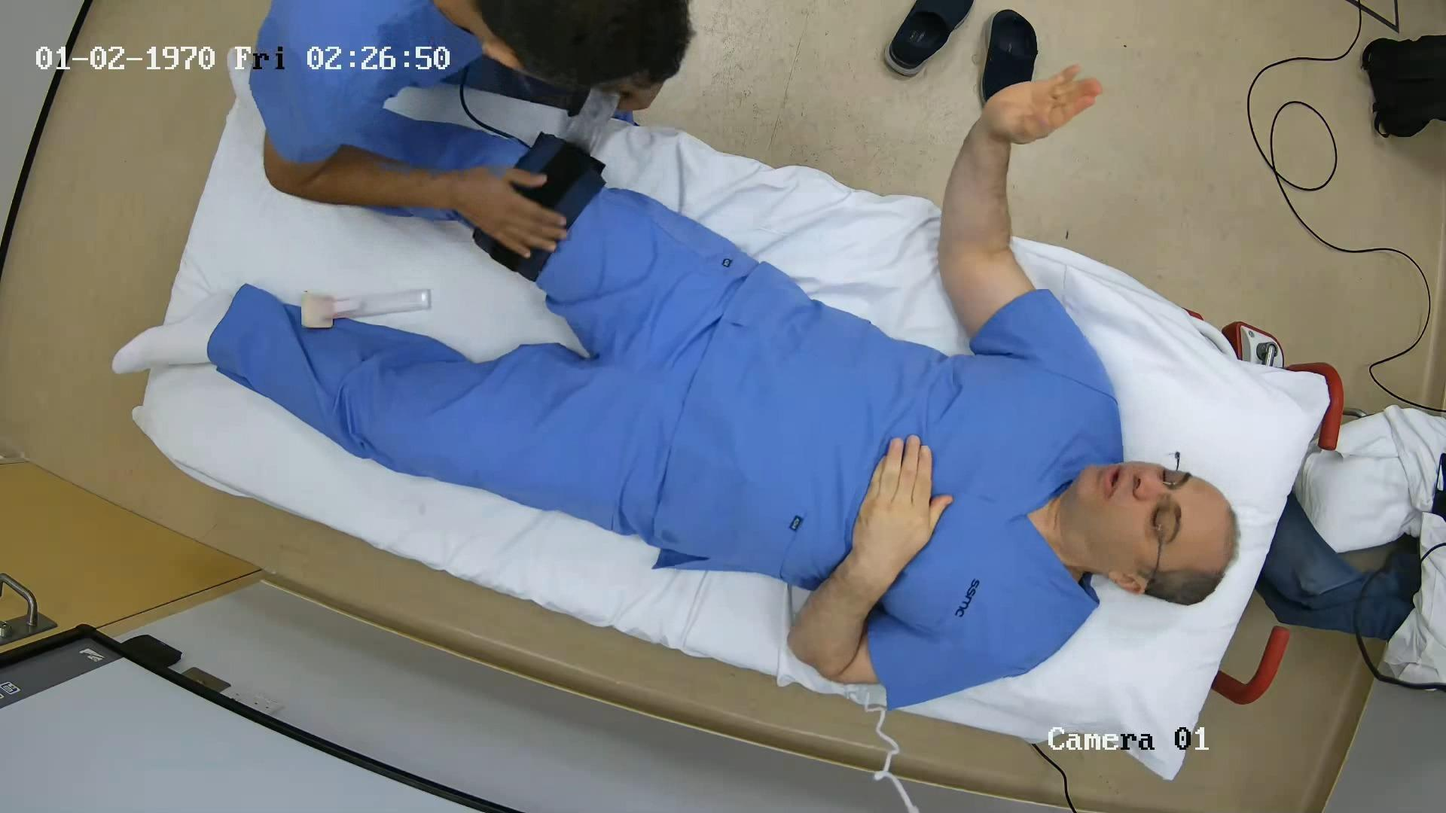bed: (114, 67, 1328, 779)
patient: (209, 67, 1237, 707)
prepstick: (299, 289, 431, 328)
tourniquet: (516, 133, 605, 228), (473, 229, 551, 280)
